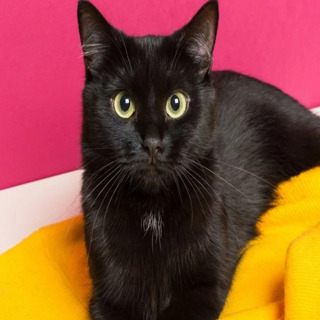gato: (58, 1, 237, 248)
